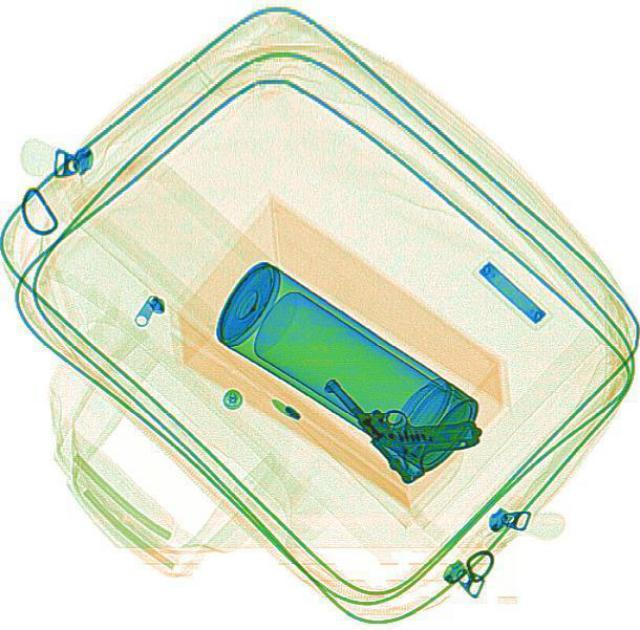Gun: (319, 328, 485, 487)
